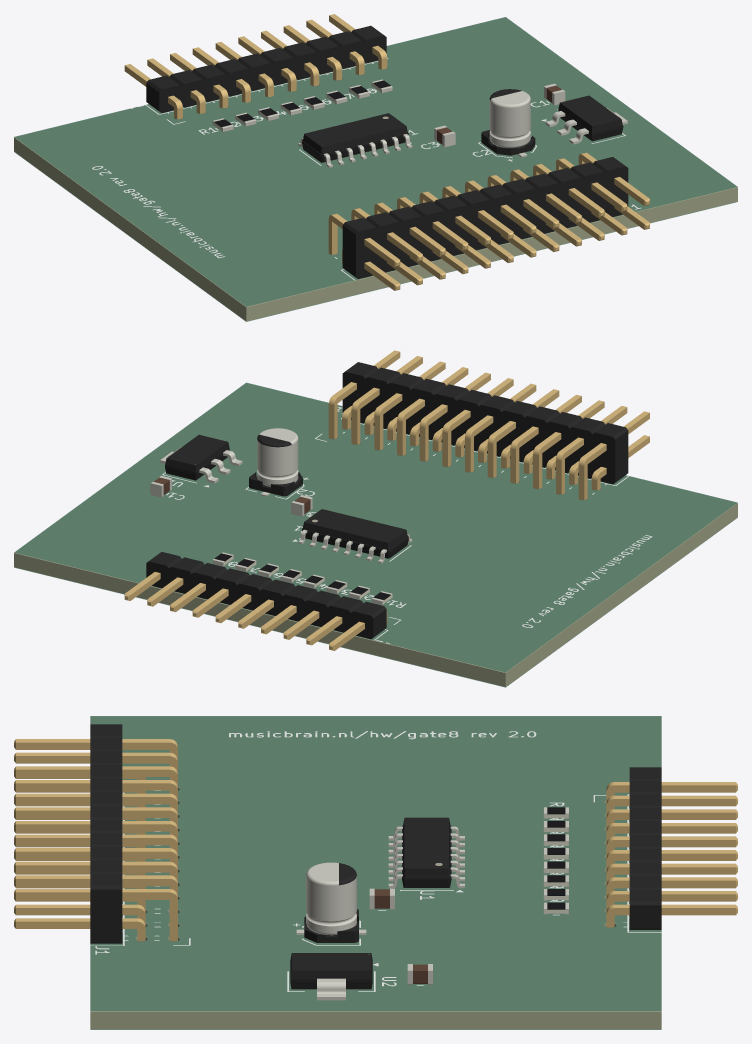
The model's file is musicbrain-gate8.glb.
3 views of the same model, one above another, from view 1: azimuth 30°, elevation 25°; view 2: azimuth 150°, elevation 25°; view 3: azimuth 270°, elevation 25° (orthographic). The views are drawn at different scales.
Visible parts, largest first — view 1: =>[0:1:1:19], =>[0:1:1:17], =>[0:1:1:3], =>[0:1:1:5], =>[0:1:1:9], =>[0:1:1:15], =>[0:1:1:11], =>[0:1:1:16], =>[0:1:1:18]; view 2: =>[0:1:1:19], =>[0:1:1:17], =>[0:1:1:3], =>[0:1:1:5], =>[0:1:1:9], =>[0:1:1:15], =>[0:1:1:11], =>[0:1:1:16], =>[0:1:1:18]; view 3: =>[0:1:1:19], =>[0:1:1:17], =>[0:1:1:3], =>[0:1:1:5], =>[0:1:1:9], =>[0:1:1:15], =>[0:1:1:11], =>[0:1:1:16], =>[0:1:1:13] (×2), =>[0:1:1:18].
Part boxes in pixels (x1=…): =>[0:1:1:19]: x1=14, y1=18, x2=737, y2=321; =>[0:1:1:17]: x1=14, y1=17, x2=737, y2=306; =>[0:1:1:3]: x1=328, y1=152, x2=649, y2=290; =>[0:1:1:5]: x1=124, y1=14, x2=387, y2=119; =>[0:1:1:9]: x1=298, y1=113, x2=412, y2=167; =>[0:1:1:15]: x1=481, y1=89, x2=535, y2=157; =>[0:1:1:11]: x1=545, y1=95, x2=627, y2=144; =>[0:1:1:16]: x1=92, y1=58, x2=641, y2=280; =>[0:1:1:18]: x1=14, y1=152, x2=737, y2=321; =>[0:1:1:19]: x1=14, y1=383, x2=737, y2=686; =>[0:1:1:17]: x1=14, y1=382, x2=737, y2=672; =>[0:1:1:3]: x1=328, y1=350, x2=649, y2=499; =>[0:1:1:5]: x1=124, y1=552, x2=387, y2=650; =>[0:1:1:9]: x1=298, y1=509, x2=412, y2=563; =>[0:1:1:15]: x1=249, y1=428, x2=302, y2=496; =>[0:1:1:11]: x1=160, y1=434, x2=242, y2=483; =>[0:1:1:16]: x1=162, y1=407, x2=652, y2=643; =>[0:1:1:18]: x1=14, y1=517, x2=737, y2=687; =>[0:1:1:19]: x1=90, y1=717, x2=661, y2=1029; =>[0:1:1:17]: x1=90, y1=716, x2=661, y2=1011; =>[0:1:1:3]: x1=14, y1=724, x2=177, y2=943; =>[0:1:1:5]: x1=606, y1=767, x2=737, y2=929; =>[0:1:1:9]: x1=388, y1=817, x2=464, y2=888; =>[0:1:1:15]: x1=296, y1=862, x2=366, y2=942; =>[0:1:1:11]: x1=290, y1=953, x2=372, y2=1000; =>[0:1:1:16]: x1=90, y1=731, x2=661, y2=991; =>[0:1:1:13] (×2): x1=369, y1=888, x2=432, y2=984; =>[0:1:1:18]: x1=90, y1=1029, x2=661, y2=1029.
Bounding box in the file's own units: 0.055 × 0.0083 × 0.057.
